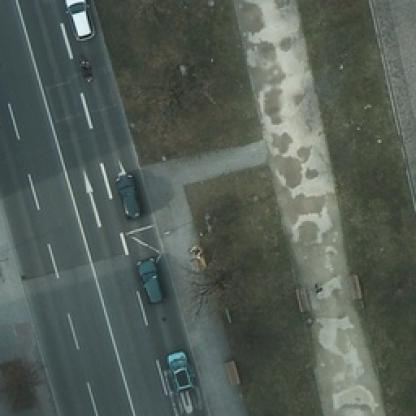car: (135, 255, 166, 304), (113, 168, 142, 219), (166, 350, 194, 394), (65, 0, 93, 39)
